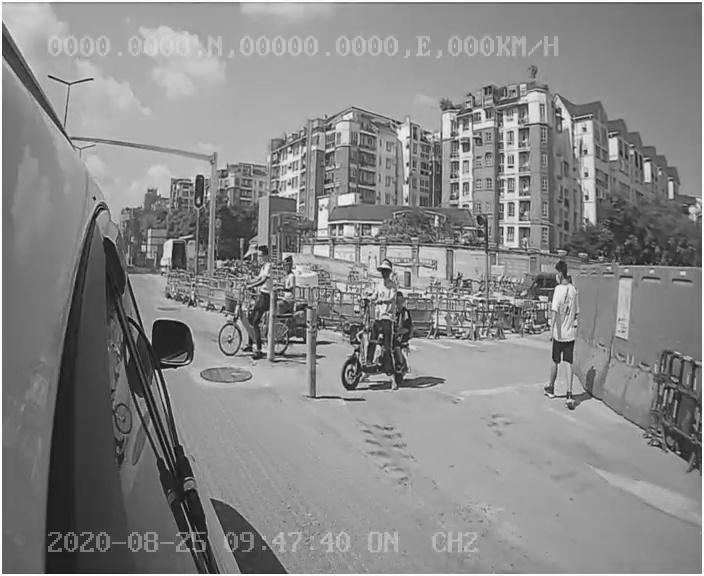person: (536, 258, 584, 412)
